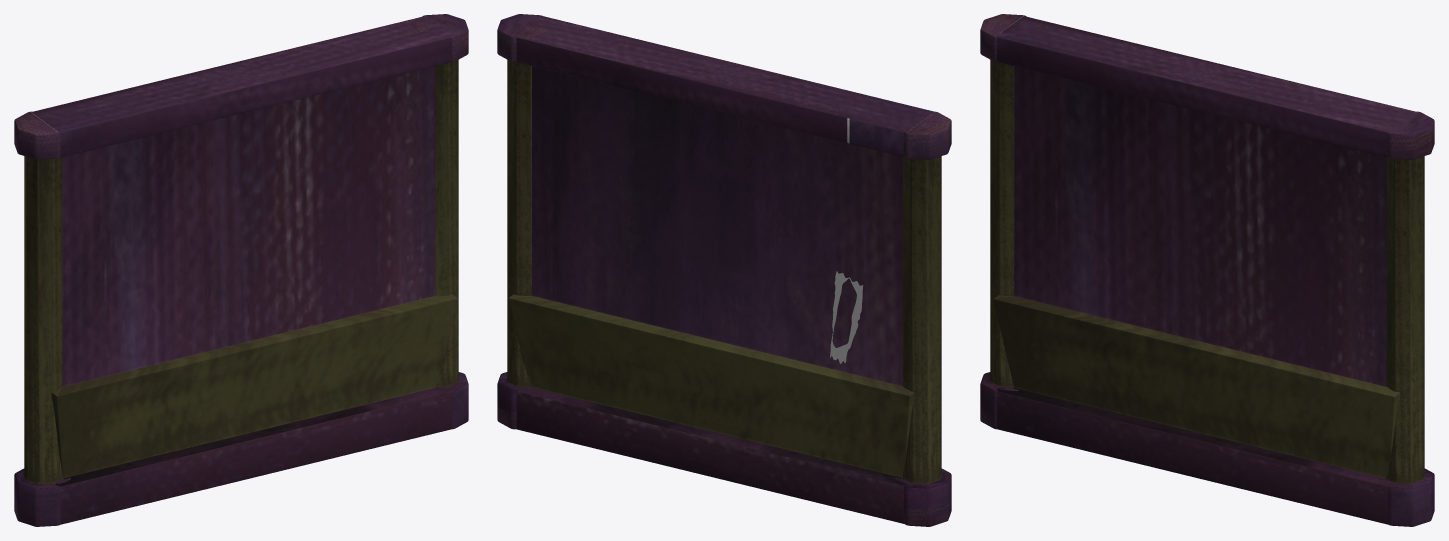
File: MANOR_WALL_3.obj
3 views of the same model, side by side, from view 1: azimuth 30°, elevation 25°; view 2: azimuth 150°, elevation 25°; view 3: azimuth 330°, elevation 25° (orthographic).
Parts seen in each view (by area): view 1: MANOR_WALL_3.008; view 2: MANOR_WALL_3.008; view 3: MANOR_WALL_3.008.
Part boxes in pixels (x1,y1,x2,y2): MANOR_WALL_3.008: [14, 14, 468, 526]; MANOR_WALL_3.008: [497, 14, 951, 526]; MANOR_WALL_3.008: [980, 14, 1434, 526].
Bounding box in the file's own units: 3.57 × 3 × 0.4138.
